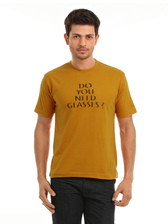clothoes: (32, 59, 140, 182)
